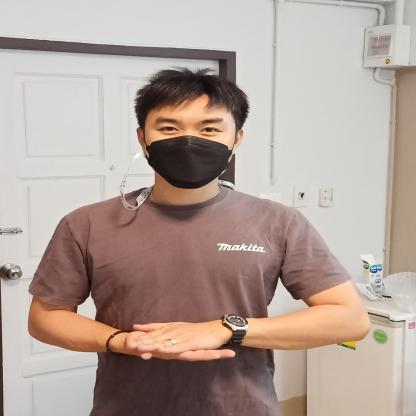Love: (87, 308, 348, 376)
